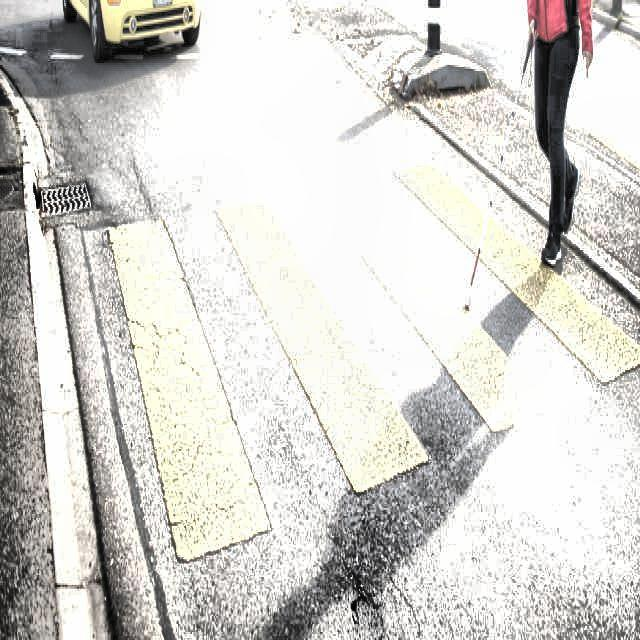faixa de pedestre: (56, 144, 636, 558)
